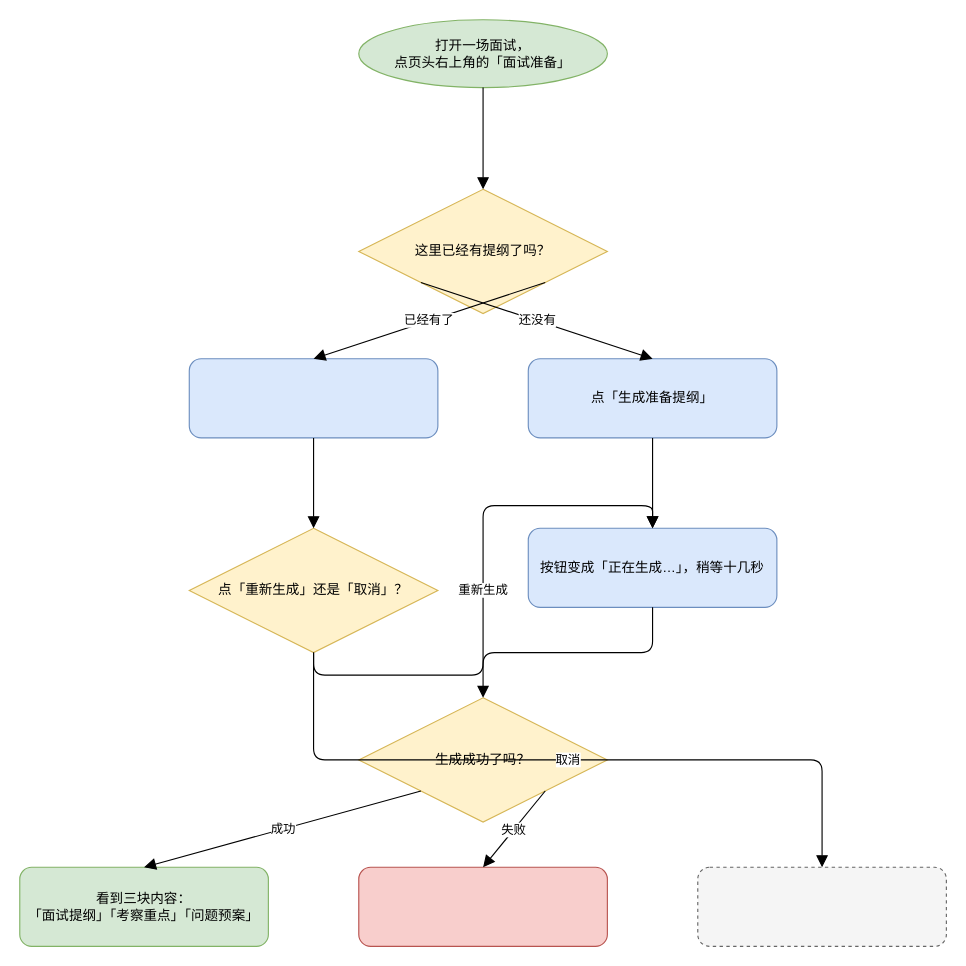
The diagram is 966 pixels wide and 966 high, and some of its shapes have lost their labels. The box of each missing label's shape, as (x1, y1, x2, y2) in pixels:
弹出确认： 「重新生成准备提纲？」: (188, 358, 438, 438)
点「取消」， 保持原来那份: (697, 866, 946, 946)
看到报错提示（AI 暂时不可用）， 原来那份还在，可以再点一次: (358, 866, 607, 946)
